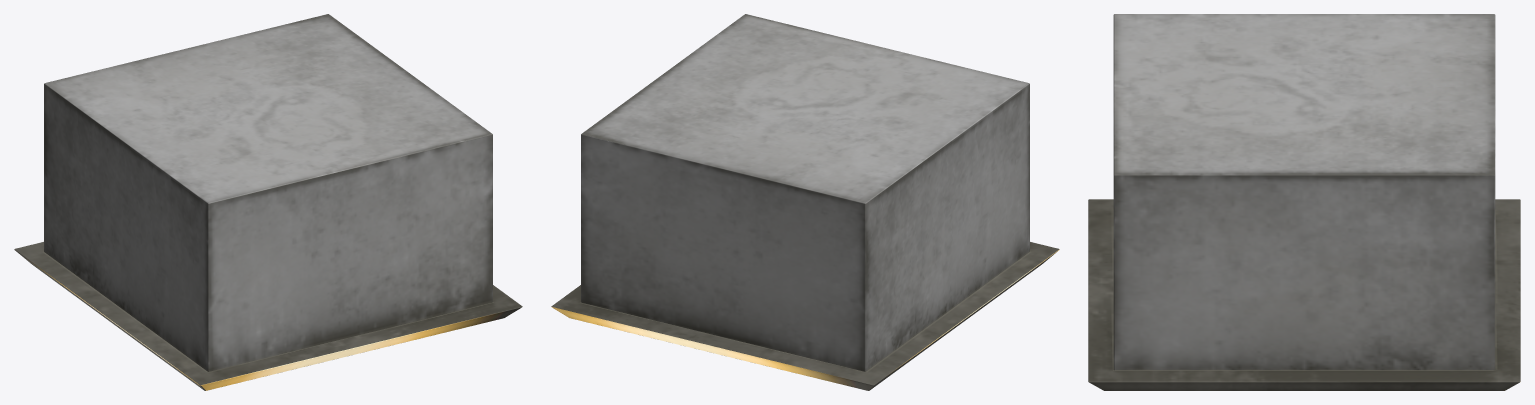
Rendered from SM_Ventilation_Set_05a.fbx.
The picture shows the model from 3 angles, left to right: view 1: azimuth 30°, elevation 25°; view 2: azimuth 150°, elevation 25°; view 3: azimuth 270°, elevation 25°; orthographic projection. The views are drawn at different scales.
Parts seen in each view (by area): view 1: SM_Ventilation_Set_05a_LOD0; view 2: SM_Ventilation_Set_05a_LOD0; view 3: SM_Ventilation_Set_05a_LOD0.
Part boxes in pixels (<box>): SM_Ventilation_Set_05a_LOD0: <box>14,14,522,390</box>; SM_Ventilation_Set_05a_LOD0: <box>551,14,1059,390</box>; SM_Ventilation_Set_05a_LOD0: <box>1088,14,1520,390</box>.
Size of the model in its own units: 78.36 by 78.36 by 42.47.
